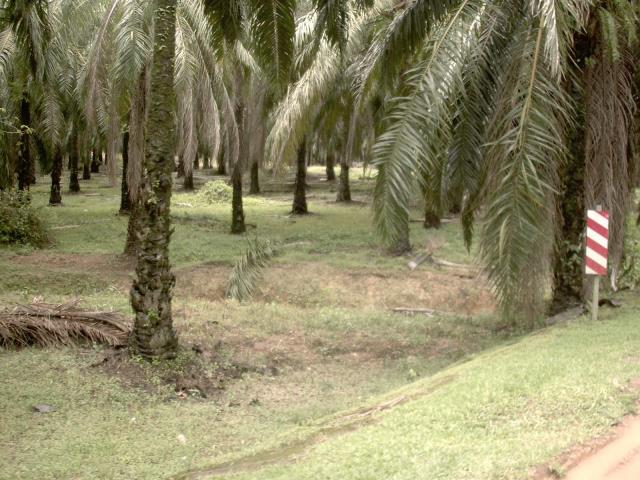traffic_sign: (577, 200, 616, 283)
